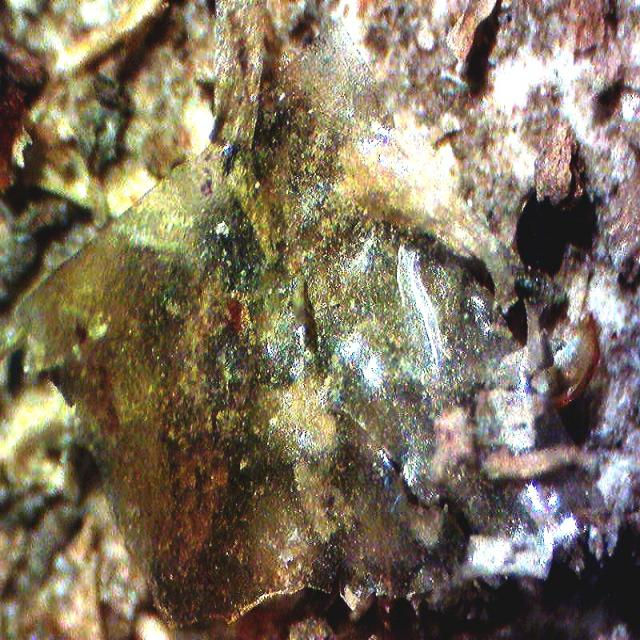microplastic: (19, 14, 614, 622)
